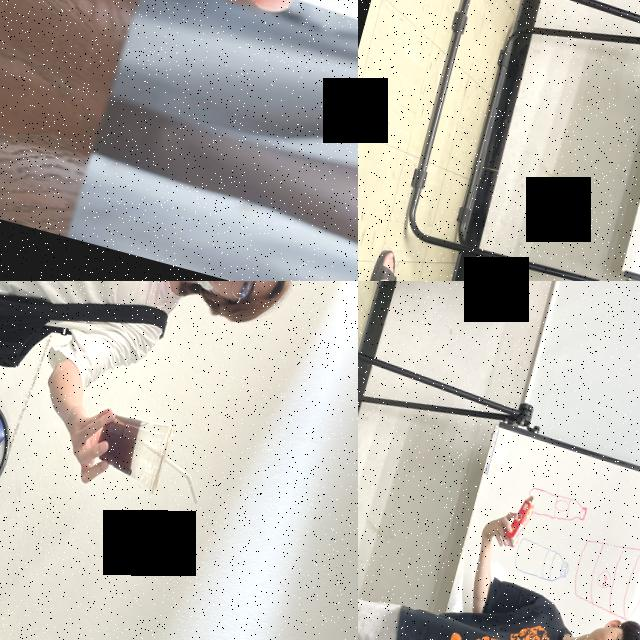cup: (86, 408, 176, 494)
